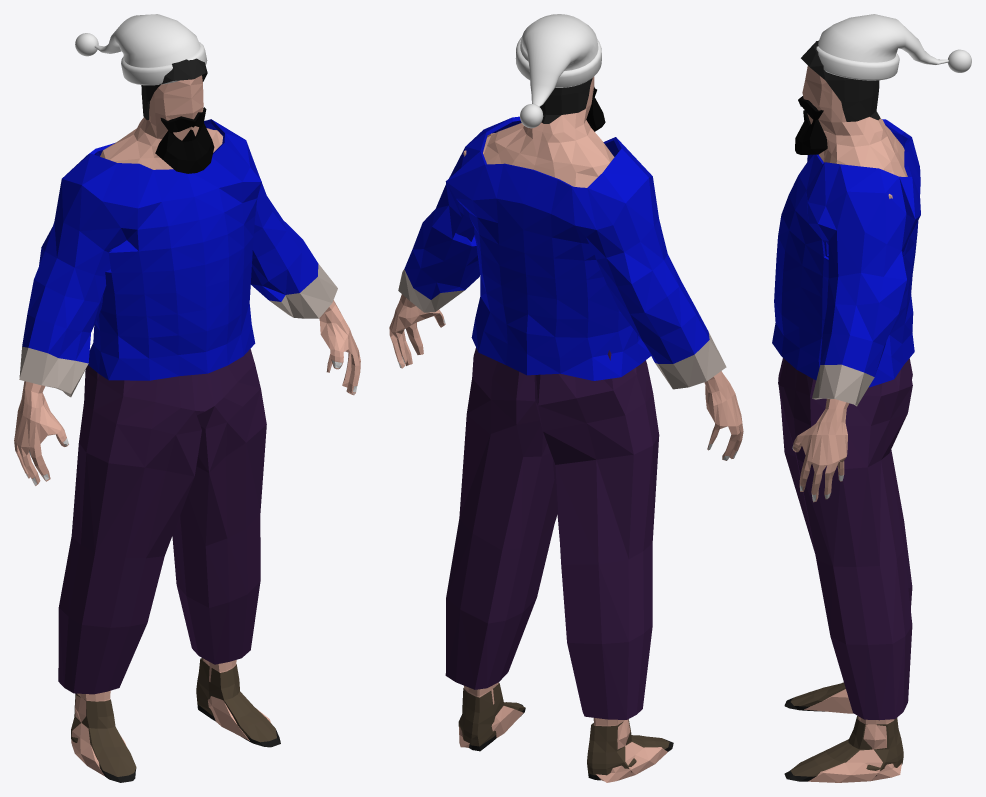
File: Krampus.fbx
The picture shows the model from 3 angles, left to right: view 1: azimuth 30°, elevation 25°; view 2: azimuth 150°, elevation 25°; view 3: azimuth 270°, elevation 25°; orthographic projection. The views are drawn at different scales.
Parts seen in each view (by area): view 1: Cube.001; view 2: Cube.001; view 3: Cube.001.
Boxes of the visible parts, left/top/right/bottom form: Cube.001: left=14, top=14, right=360, bottom=782; Cube.001: left=389, top=14, right=743, bottom=782; Cube.001: left=772, top=14, right=971, bottom=782.
Size of the model in its own units: 46.95 by 186 by 92.5.
